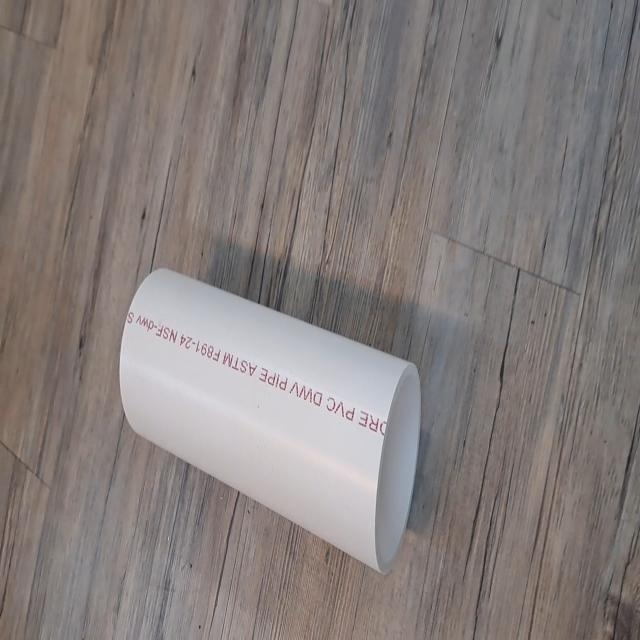CORAL: (118, 260, 427, 582)
